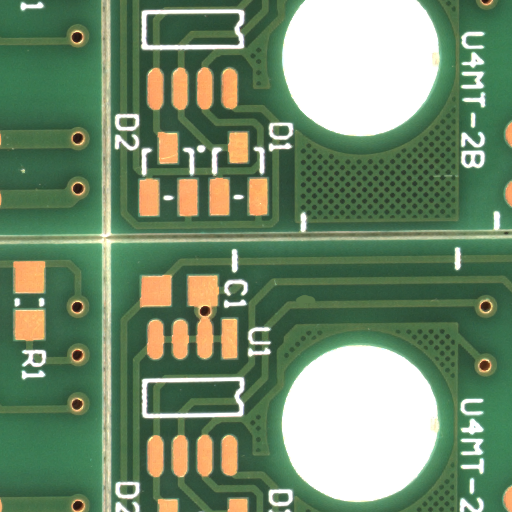Spur: (305, 298, 323, 306)
